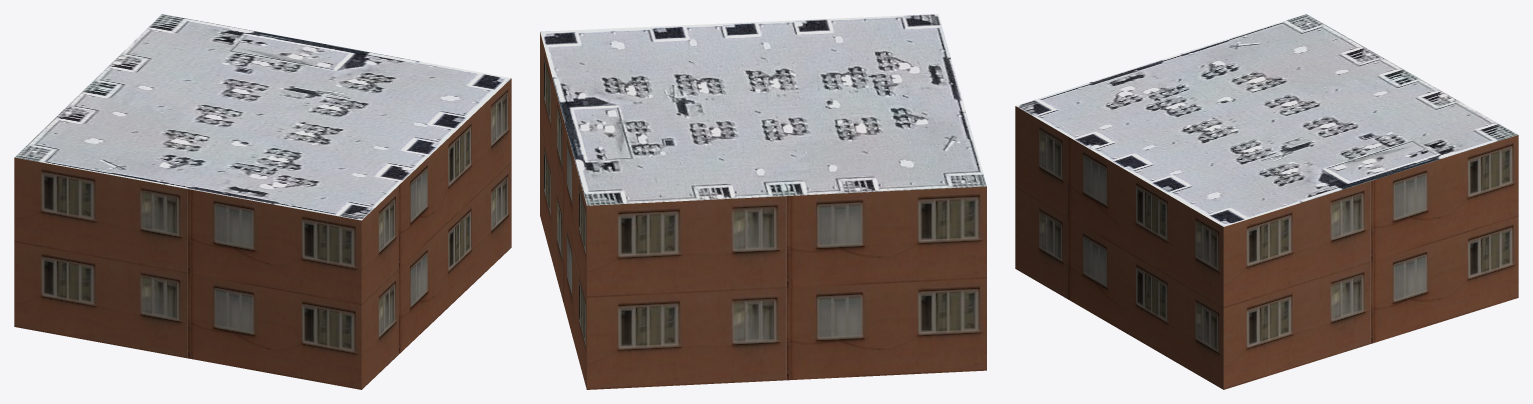
The model's file is ResTex__2391.fbx.
3 views of the same model, side by side, from view 1: azimuth 30°, elevation 25°; view 2: azimuth 150°, elevation 25°; view 3: azimuth 270°, elevation 25° (orthographic). The views are drawn at different scales.
Visible parts, largest first — view 1: CityEngineMaterial_20_m, CityEngineMaterial_m; view 2: CityEngineMaterial_20_m, CityEngineMaterial_m; view 3: CityEngineMaterial_20_m, CityEngineMaterial_m.
Boxes of the visible parts, x1=… form: CityEngineMaterial_20_m: x1=14, y1=78, x2=511, y2=389; CityEngineMaterial_m: x1=14, y1=14, x2=510, y2=220; CityEngineMaterial_20_m: x1=540, y1=32, x2=986, y2=389; CityEngineMaterial_m: x1=540, y1=14, x2=986, y2=205; CityEngineMaterial_20_m: x1=1015, y1=106, x2=1518, y2=389; CityEngineMaterial_m: x1=1016, y1=14, x2=1517, y2=226.
Size of the model in its own units: 16.83 by 6 by 16.79.
Materials: 2 (2 with a texture image).
